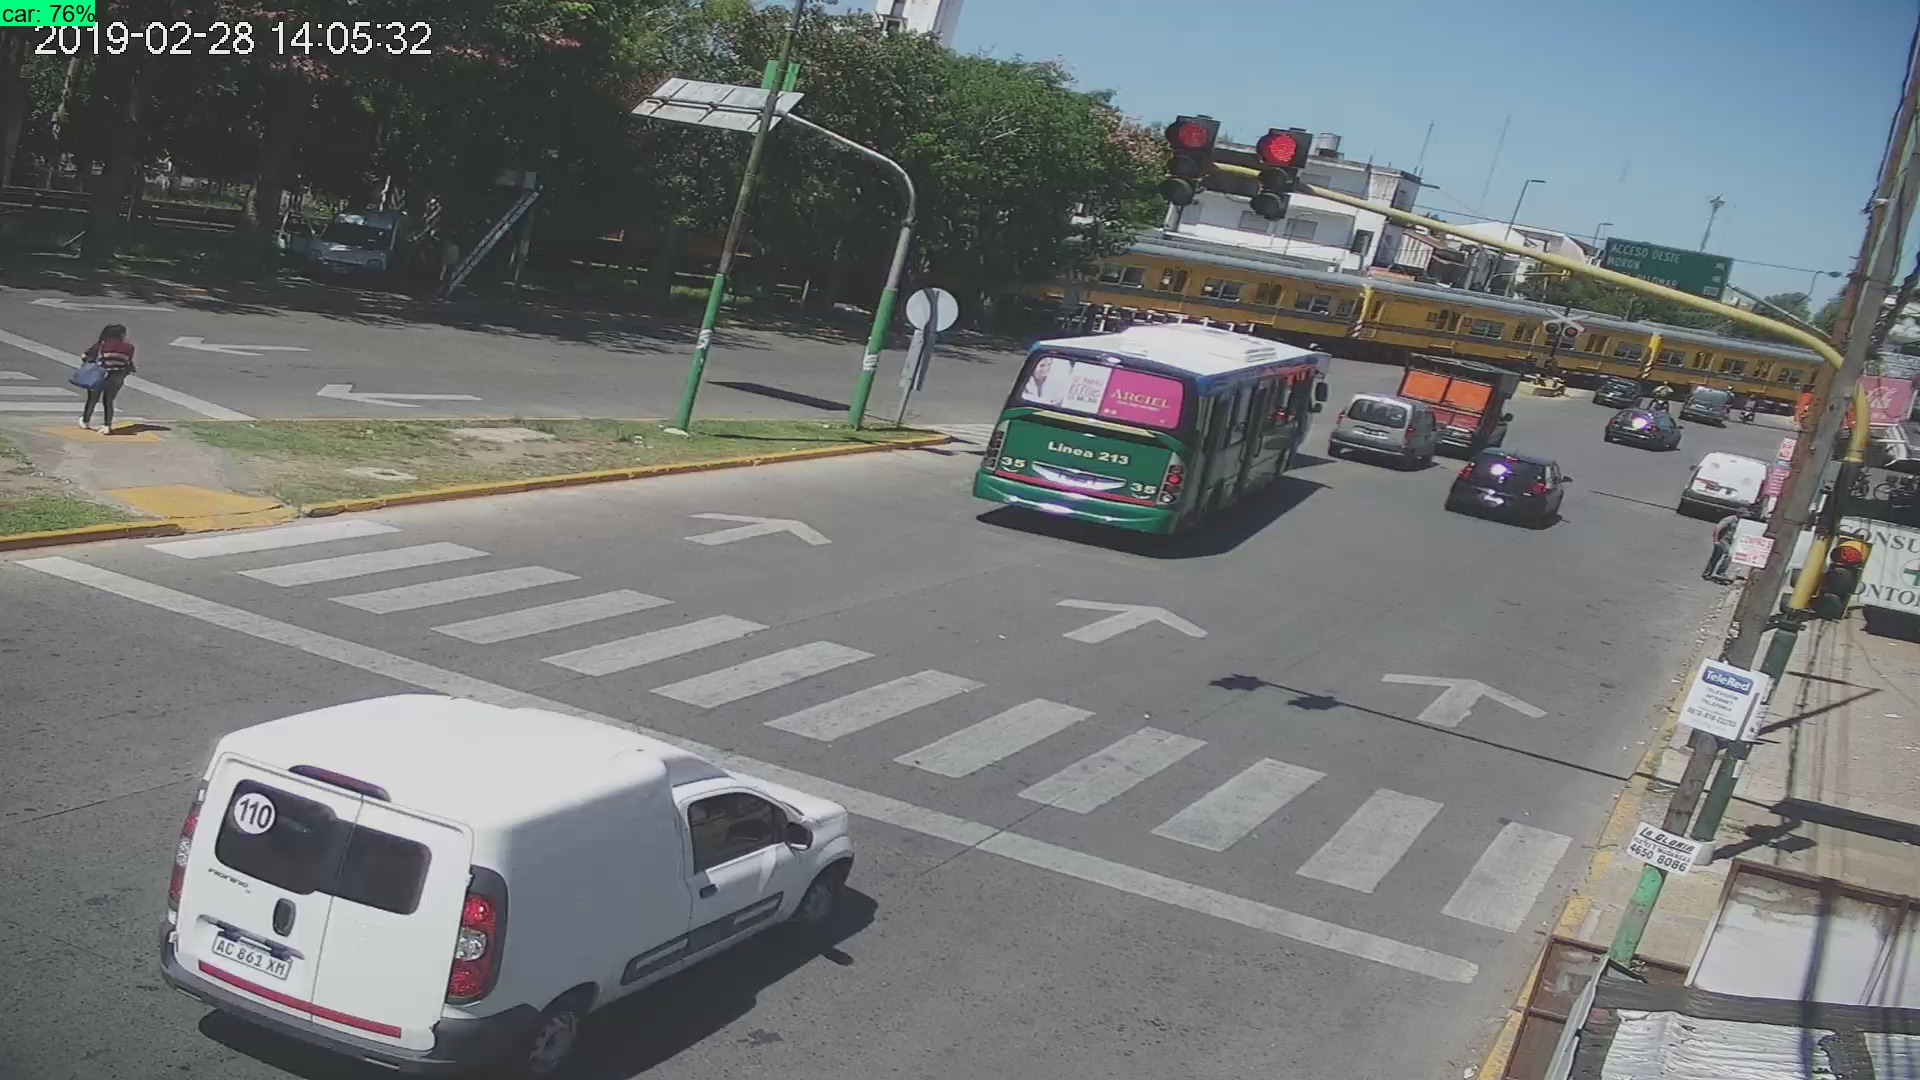bus: (967, 310, 1325, 578)
car: (152, 694, 878, 1080), (1433, 440, 1594, 547), (1323, 382, 1457, 492), (1676, 427, 1772, 537), (1598, 392, 1692, 462)
